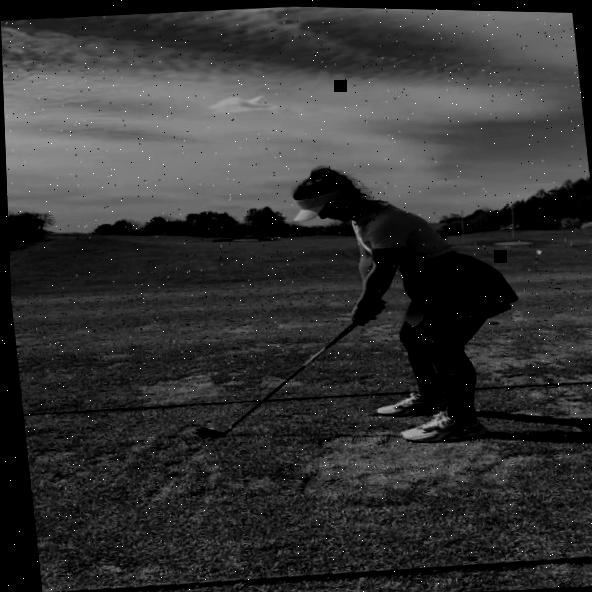ClubHead: (191, 424, 220, 438)
GolfBall: (204, 426, 212, 430)
